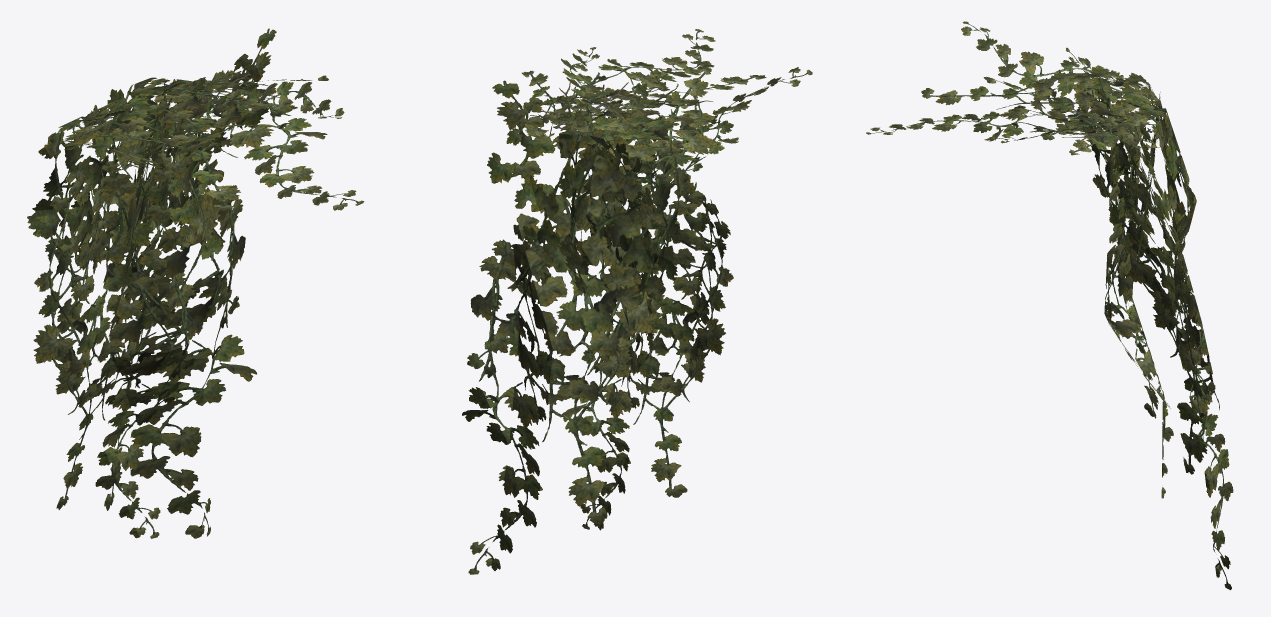
Rendered from bg_anh_foliage_te_v10_sm_old.FBX.
3 renders of one model, left to right at view 1: azimuth 30°, elevation 25°; view 2: azimuth 150°, elevation 25°; view 3: azimuth 270°, elevation 25°, orthographic. The views are drawn at different scales.
Visible parts, largest first — view 1: bg_anh_foliage_te_v10_sm_old; view 2: bg_anh_foliage_te_v10_sm_old; view 3: bg_anh_foliage_te_v10_sm_old.
Part boxes in pixels (x1,y1,x2,y2): bg_anh_foliage_te_v10_sm_old: (27, 28, 364, 538); bg_anh_foliage_te_v10_sm_old: (462, 29, 812, 574); bg_anh_foliage_te_v10_sm_old: (866, 21, 1233, 590).
Size of the model in its own units: 169 by 258 by 184.
